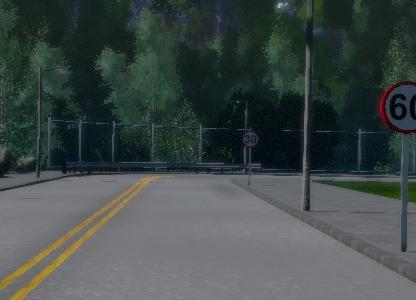Speed_60: (376, 76, 416, 134)
